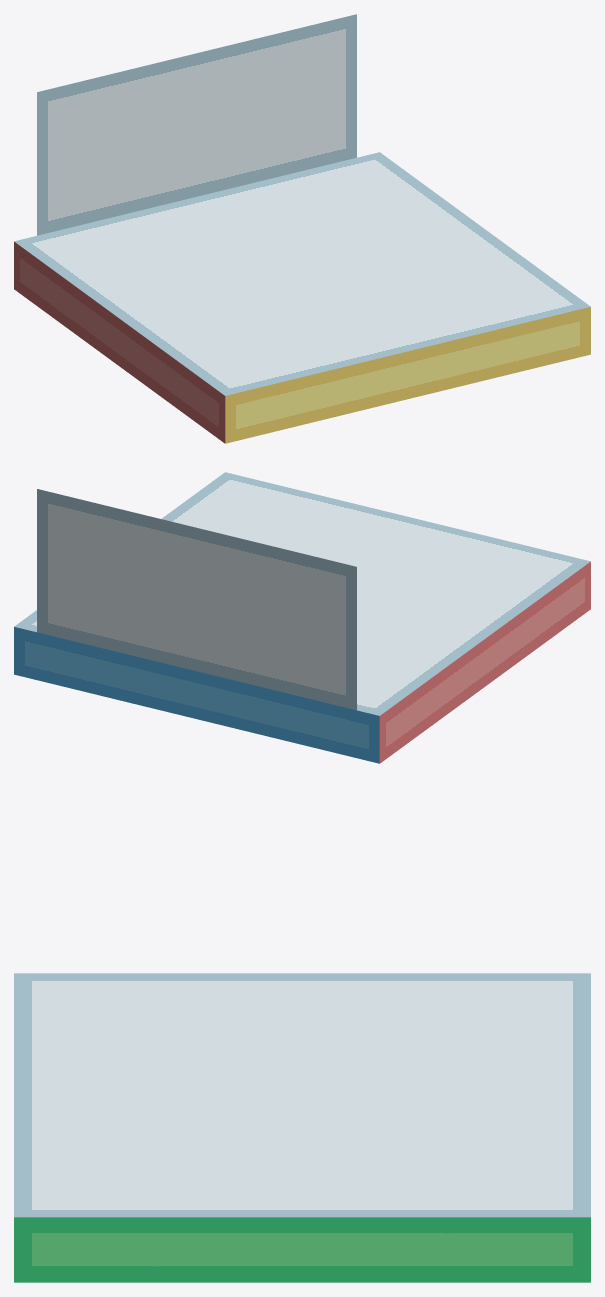
The model's file is headCosmetic.gltf.
3 renders of one model, top to bottom at view 1: azimuth 30°, elevation 25°; view 2: azimuth 150°, elevation 25°; view 3: azimuth 270°, elevation 25°, orthographic. The views are drawn at different scales.
Parts seen in each view (by area): view 1: Chin, Visor; view 2: Chin, Visor; view 3: Chin.
Part boxes in pixels (x1,y1,x2,y2): Chin: (14, 152, 590, 443); Visor: (37, 14, 356, 235); Chin: (14, 472, 590, 763); Visor: (37, 489, 356, 710); Chin: (14, 973, 590, 1282).
Size of the model in its own units: 1 by 0.5 by 1.
1 material, 1 textured.
